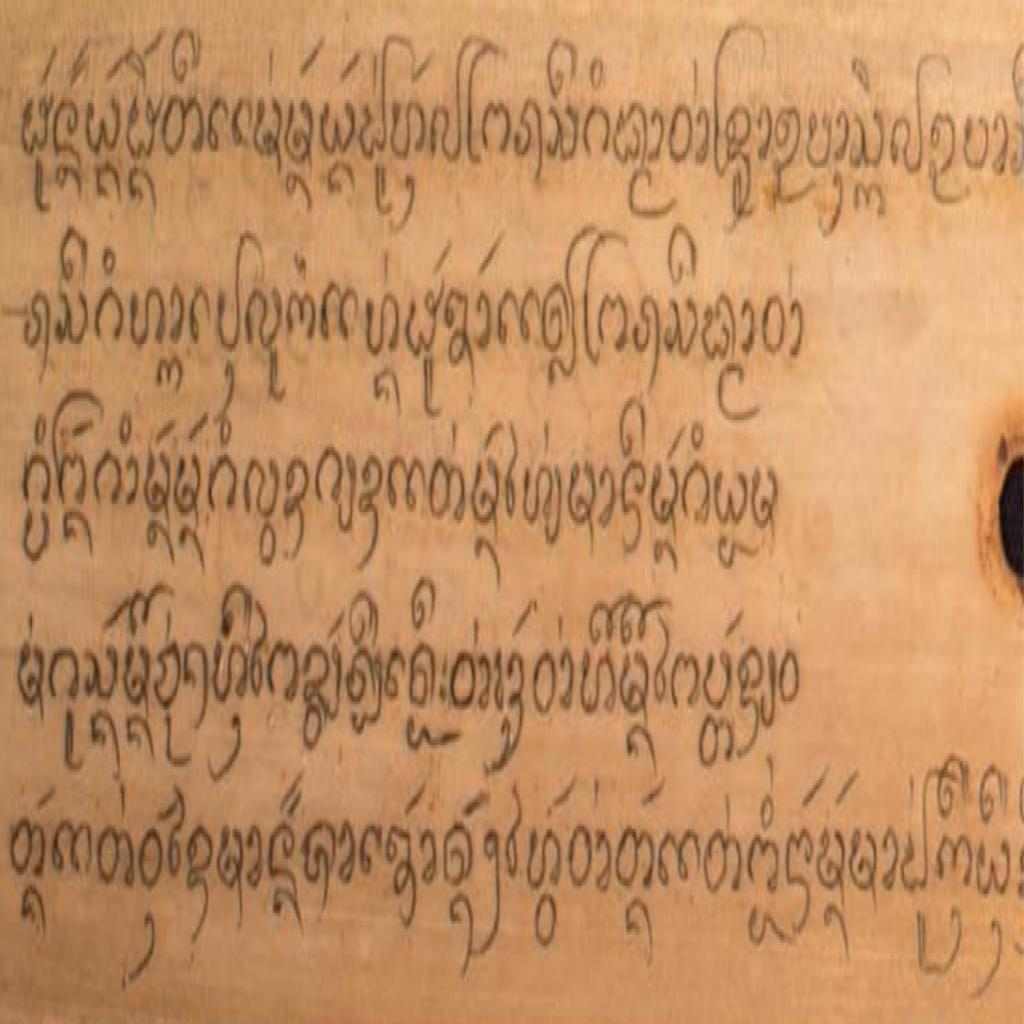LN025: (217, 252, 243, 358)
LN031: (470, 452, 504, 534)
LN035: (449, 647, 479, 717)
